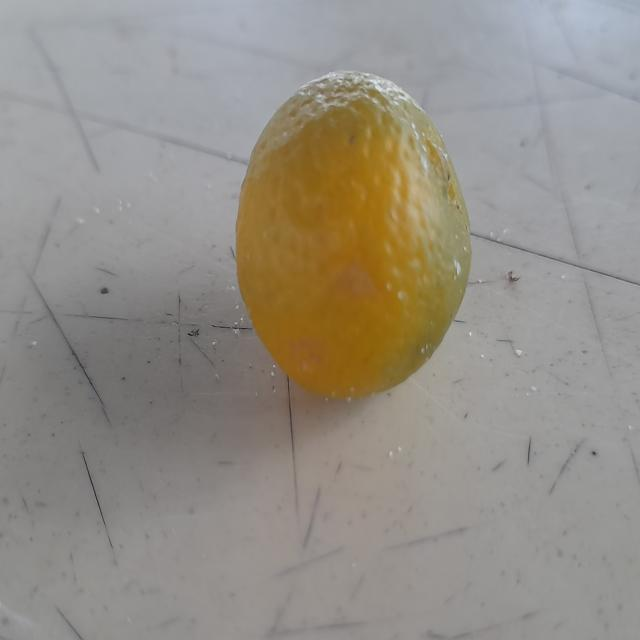greening: (232, 64, 496, 422)
